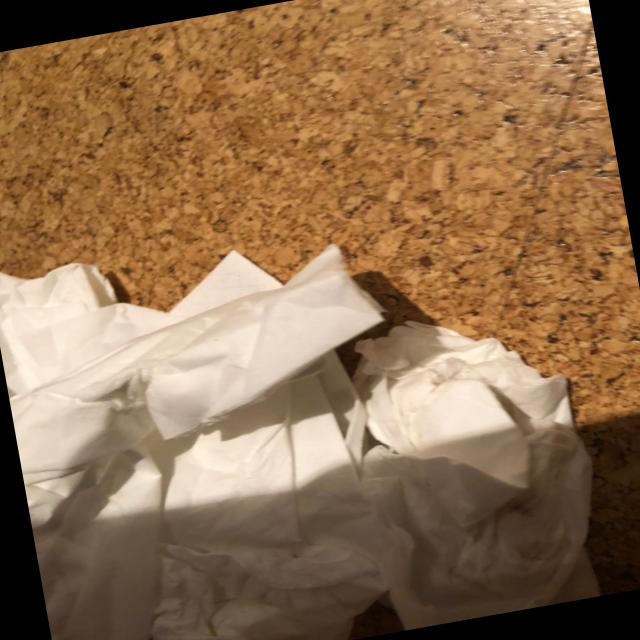organic waste: (0, 233, 410, 534), (336, 292, 624, 633), (117, 352, 443, 640), (0, 215, 298, 373), (16, 412, 208, 640)
